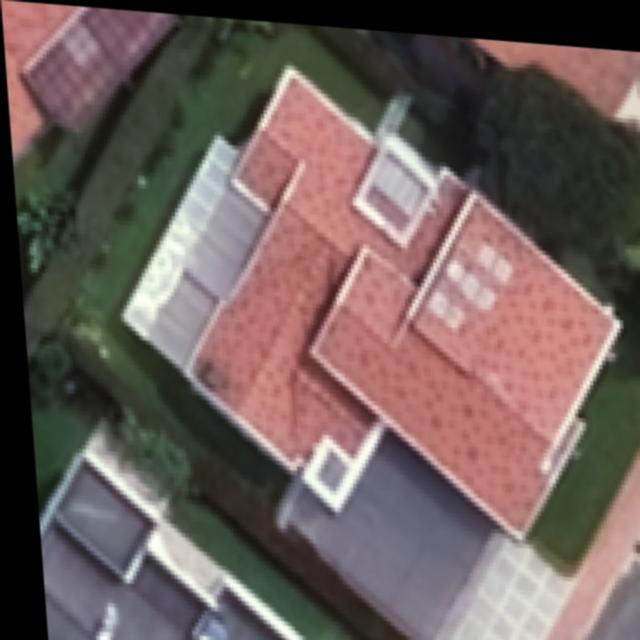Batiment: (180, 65, 613, 529), (30, 428, 300, 640), (474, 30, 640, 106), (0, 1, 76, 159)
